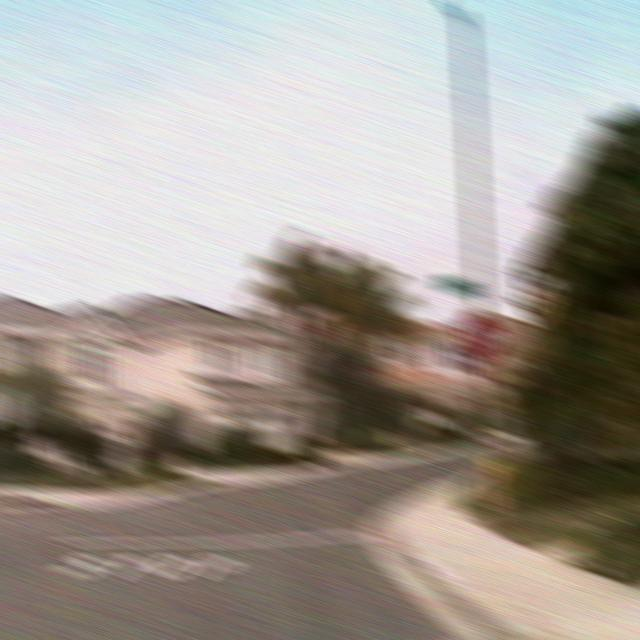stop_sign: (457, 309, 504, 364)
